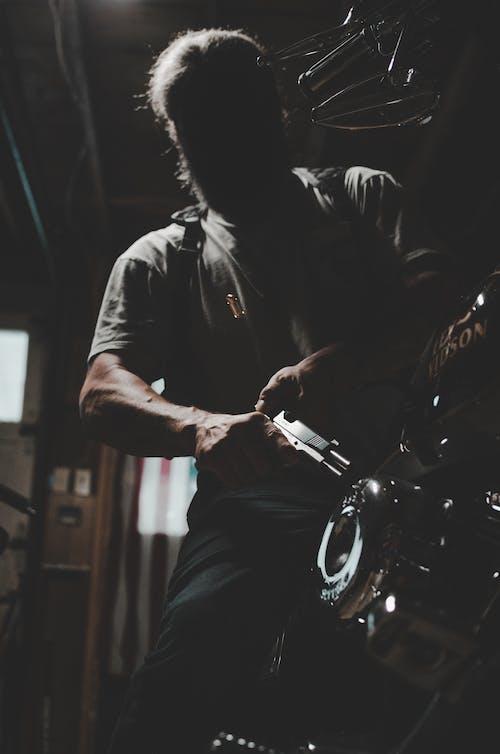gun: (269, 405, 359, 483)
